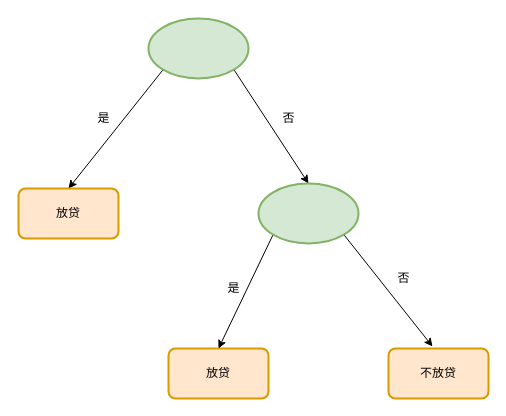
Some shapes in this 506 by 416 pixel diagram are drawn without their labels. The shapes that lost their labels are listed below. From the top down, each one's centre as x and y in pixels, then its label:
At point 198,48: "有自己的房子".
At point 308,213: "有工作".
